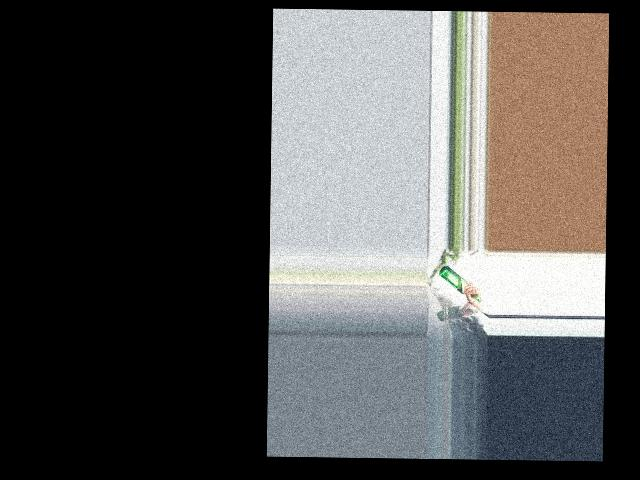beer: (438, 265, 481, 303)
